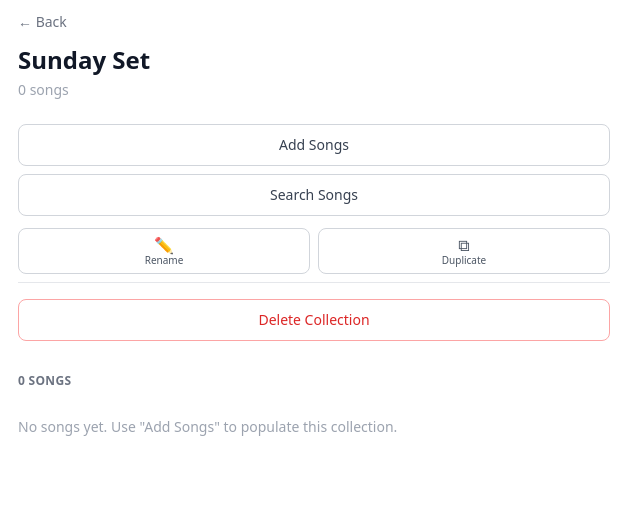
Scenario: CollectionDetailView action icon row › clicking the Duplicate icon shows the inline duplicate-name input and hides the icon
Click the button named "Duplicate collection".
click(464, 251)  # box [318,228,610,274]
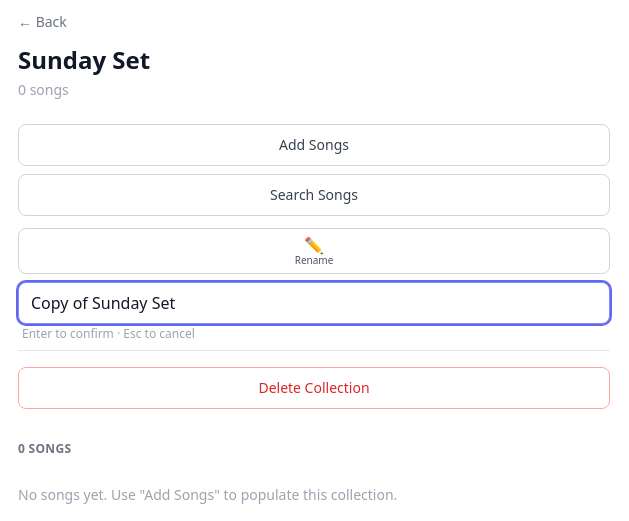
Expected: the field with placeholder "New collection name…" is shown, [18,282,610,324]
